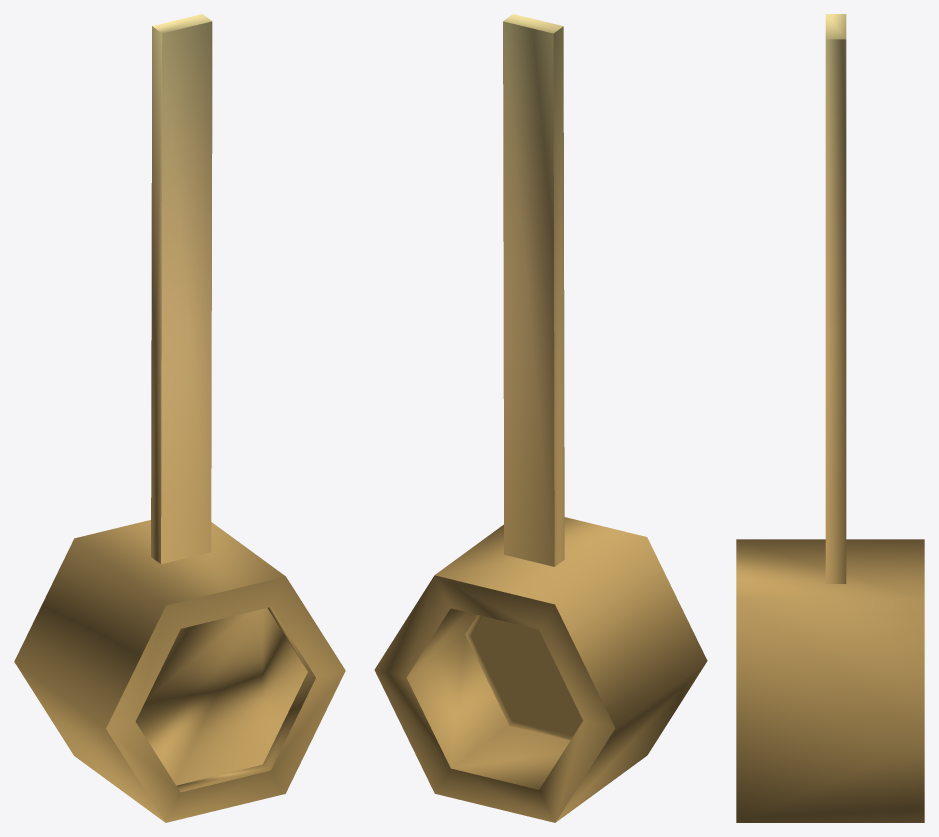
Rendered from Ladle.fbx.
The picture shows the model from 3 angles, left to right: view 1: azimuth 30°, elevation 25°; view 2: azimuth 150°, elevation 25°; view 3: azimuth 270°, elevation 25°; orthographic projection. The views are drawn at different scales.
Parts seen in each view (by area): view 1: Ladle; view 2: Ladle; view 3: Ladle.
Boxes of the visible parts, left/top/right/bottom form: Ladle: left=14, top=14, right=345, bottom=822; Ladle: left=374, top=14, right=707, bottom=822; Ladle: left=736, top=14, right=924, bottom=822.
Bounding box in the file's own units: 0.1145 × 0.3411 × 0.0758.
Materials: 1 (1 with a texture image).
